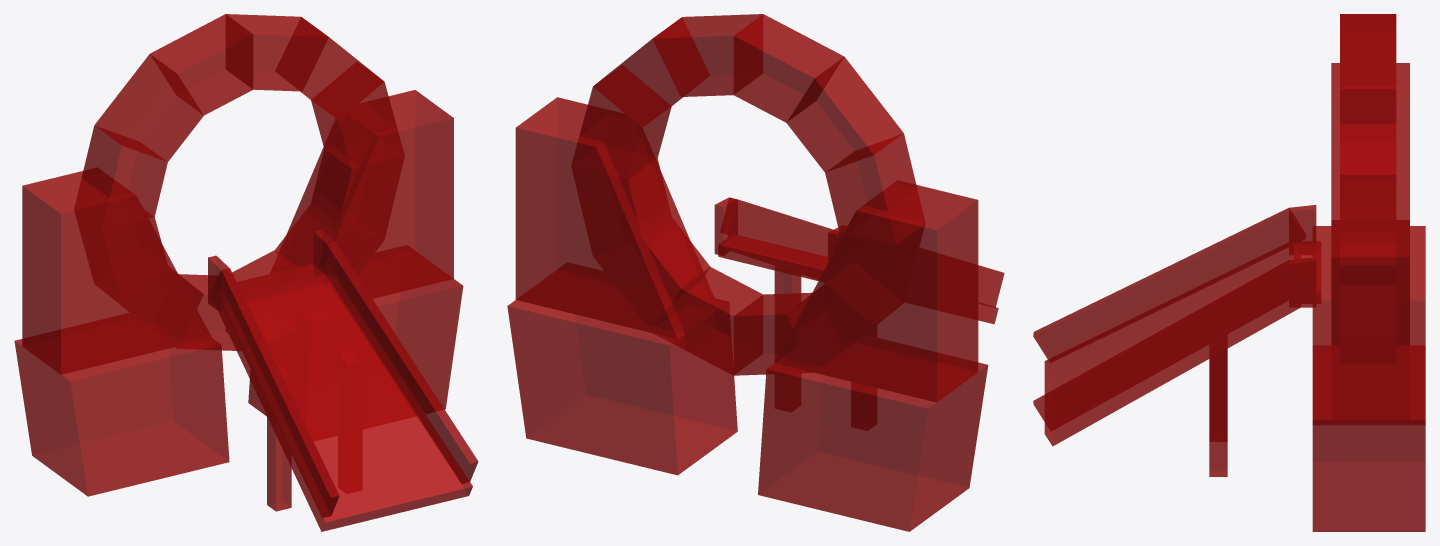
File: SM_Bld_Warpgate_01_Collision.fbx
The picture shows the model from 3 angles, left to right: view 1: azimuth 30°, elevation 25°; view 2: azimuth 150°, elevation 25°; view 3: azimuth 270°, elevation 25°; orthographic projection. The views are drawn at different scales.
Visible parts, largest first — view 1: SM_Bld_Warpgate_01_Collision; view 2: SM_Bld_Warpgate_01_Collision; view 3: SM_Bld_Warpgate_01_Collision.
Boxes of the visible parts, x1,y1,x2,y2 form: SM_Bld_Warpgate_01_Collision: [14, 14, 478, 531]; SM_Bld_Warpgate_01_Collision: [507, 14, 1004, 531]; SM_Bld_Warpgate_01_Collision: [1033, 14, 1425, 531].
Bounding box in the file's own units: 805 × 821 × 688.
